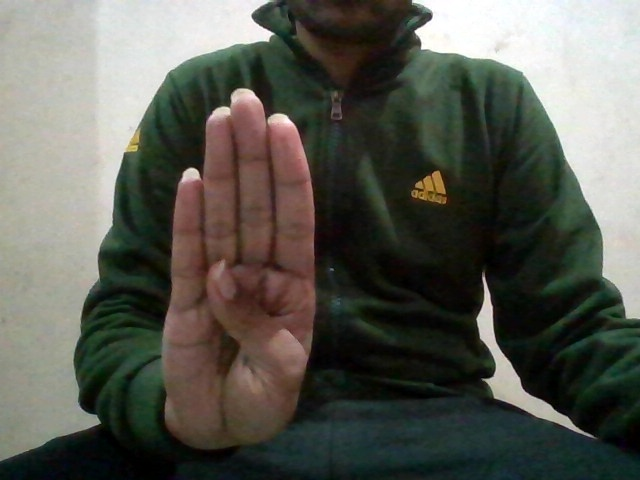B: (158, 88, 330, 452)
